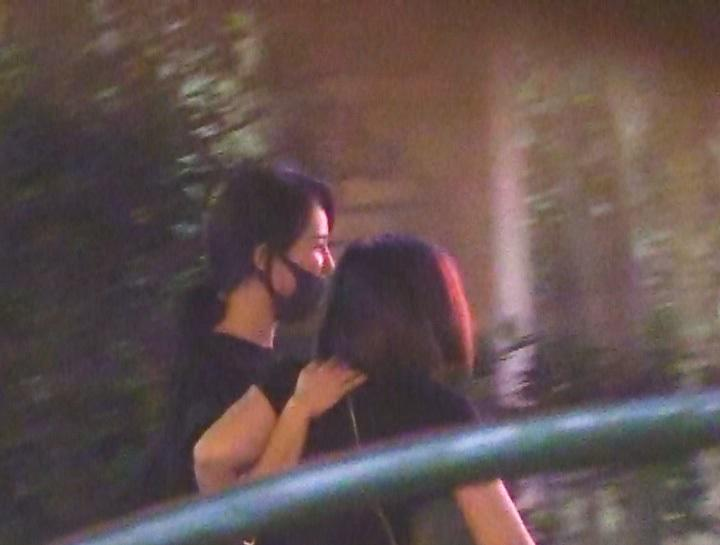WRONG: (269, 220, 341, 325)
